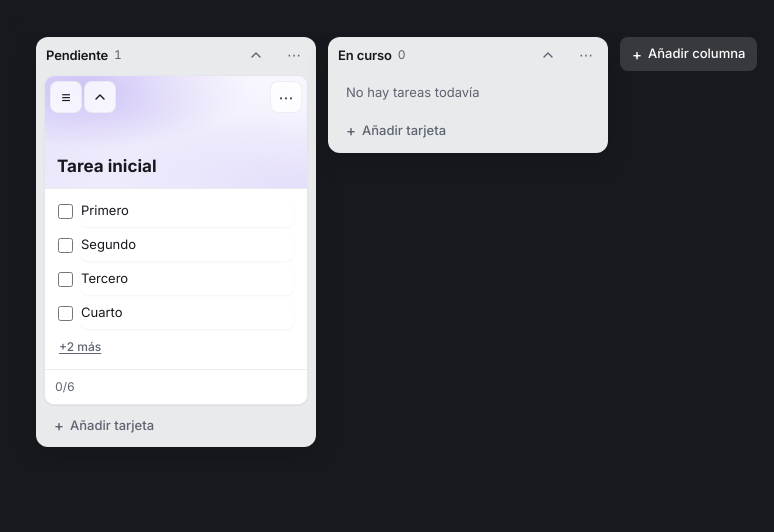
Tablero › «+N más» despliega todo el checklist sin abrir la tarjeta y «Ver menos» lo pliega
Step 1. Click the button "+2 más" → (80,347), box x1=55 y1=331 x2=105 y2=363
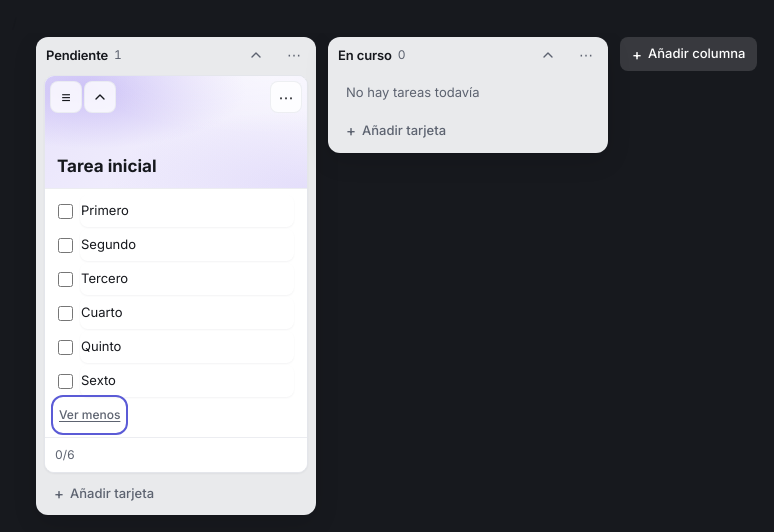
Expected: the text "Quinto" is shown, x1=81 y1=338 x2=121 y2=354
Expected: the text "Sexto" is shown, x1=81 y1=372 x2=116 y2=388
Expected: the number of list items with class "tarjeta-kanban__checklist-item" is 6, x1=55 y1=195 x2=297 y2=227; x1=55 y1=229 x2=297 y2=261; x1=55 y1=263 x2=297 y2=295; x1=55 y1=297 x2=297 y2=329; x1=55 y1=331 x2=297 y2=363; x1=55 y1=365 x2=297 y2=397
Step 2. Click the button "Ver menos" → (90,415), box x1=55 y1=399 x2=124 y2=431
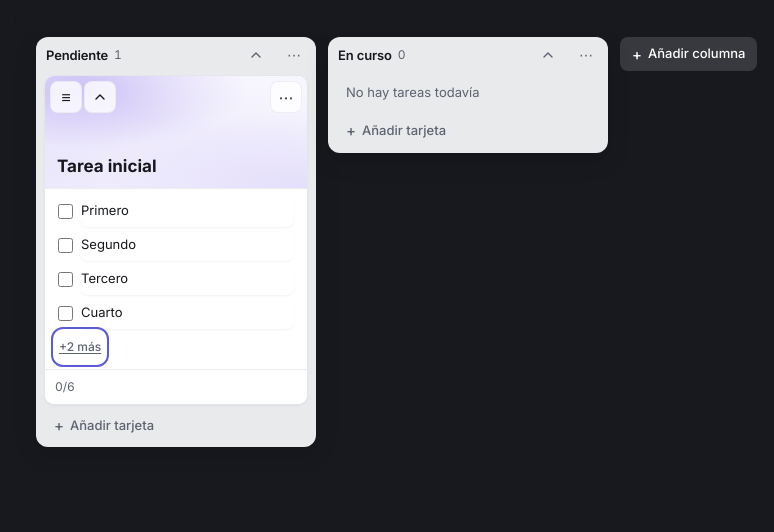
Expected: the button "Quinto" is gone
Expected: the number of list items with class "tarjeta-kanban__checklist-item" is 4, x1=55 y1=195 x2=297 y2=227; x1=55 y1=229 x2=297 y2=261; x1=55 y1=263 x2=297 y2=295; x1=55 y1=297 x2=297 y2=329
Expected: the button "+2 más" is shown, x1=55 y1=331 x2=105 y2=363
